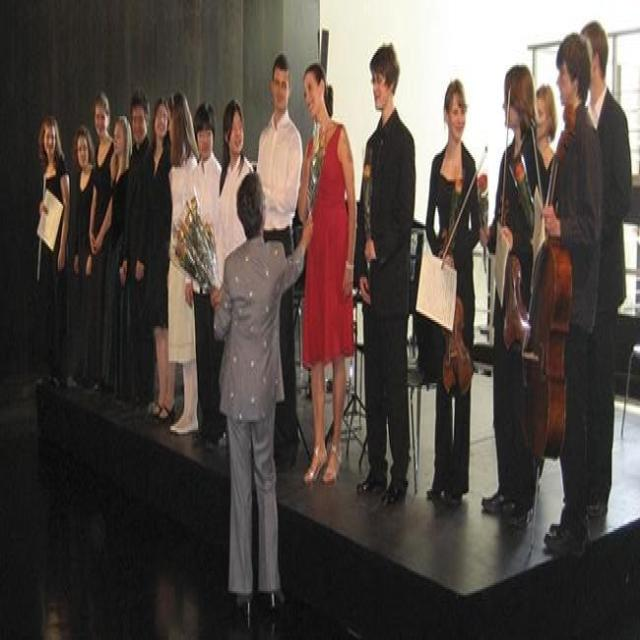cello: (525, 101, 577, 463)
violin: (438, 230, 474, 398), (498, 199, 532, 355)
